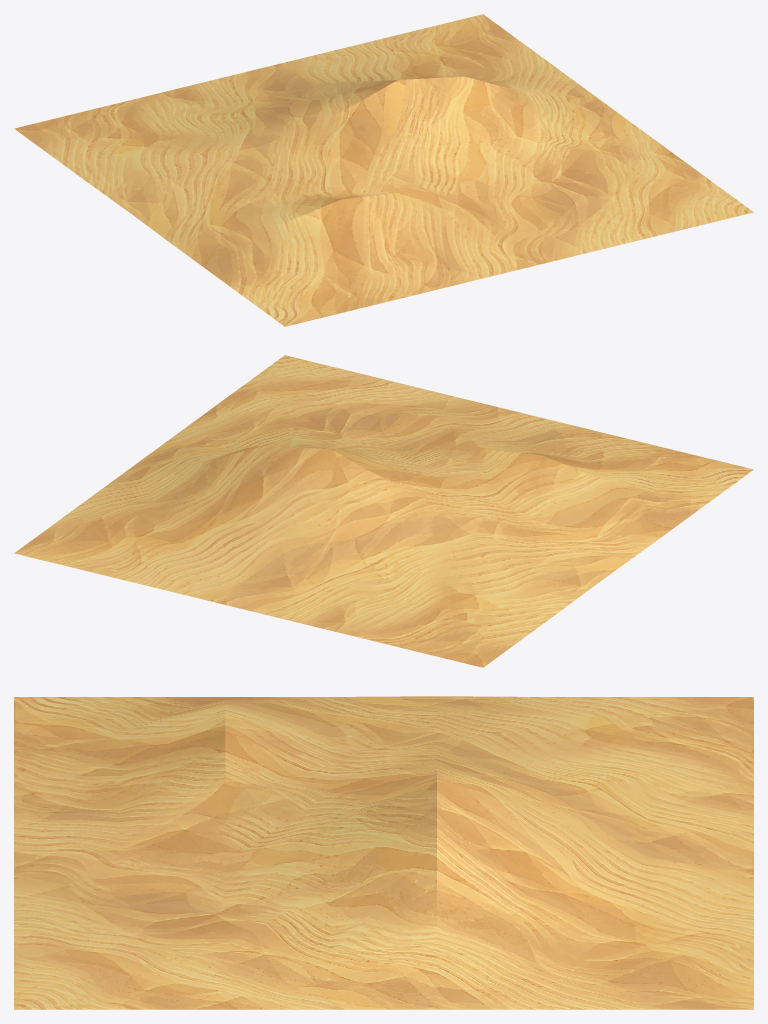
File: Sand_Hill.fbx
3 renders of one model, top to bottom at view 1: azimuth 30°, elevation 25°; view 2: azimuth 150°, elevation 25°; view 3: azimuth 270°, elevation 25°, orthographic. The views are drawn at different scales.
Visible parts, largest first — view 1: Plane; view 2: Plane; view 3: Plane.
Part boxes in pixels (x1,y1,x2,y2): Plane: [14, 14, 753, 326]; Plane: [14, 355, 753, 667]; Plane: [14, 696, 753, 1009].
Size of the model in its own units: 1970 by 274 by 1970.
